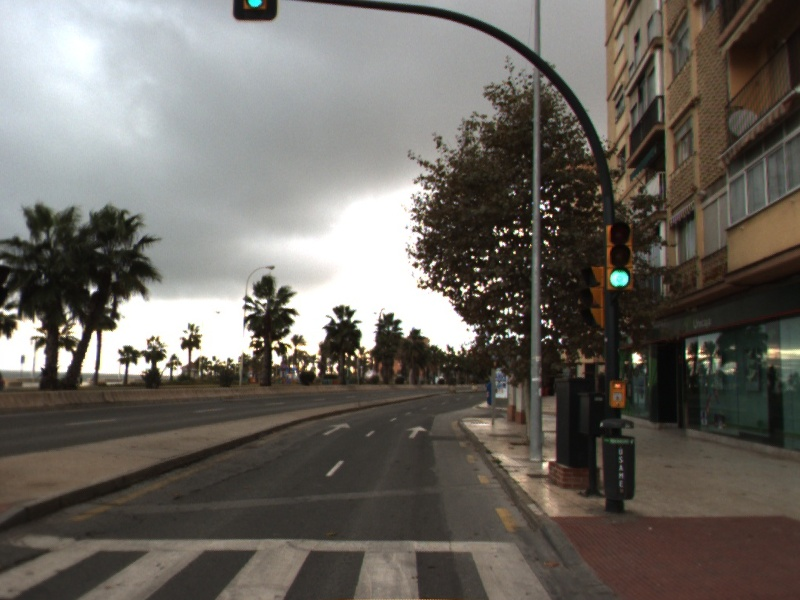STRAIGHT: (321, 421, 352, 436), (405, 424, 429, 440)
